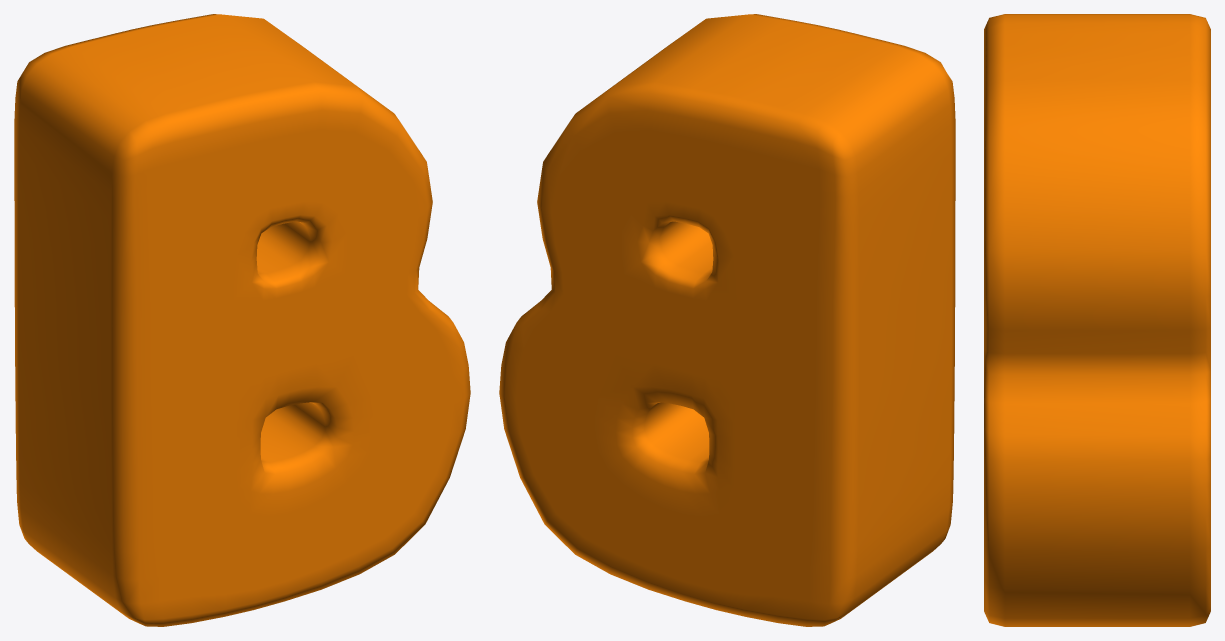
3 views of the same model, side by side, from view 1: azimuth 30°, elevation 25°; view 2: azimuth 150°, elevation 25°; view 3: azimuth 270°, elevation 25° (orthographic).
Visible parts, largest first — view 1: LETTER_B; view 2: LETTER_B; view 3: LETTER_B.
Part boxes in pixels (box(x1,y1,x2,y2)): LETTER_B: box(14, 14, 470, 626); LETTER_B: box(499, 14, 955, 626); LETTER_B: box(984, 14, 1210, 626).
Bounding box in the file's own units: 0.7235 × 1 × 0.3986.
